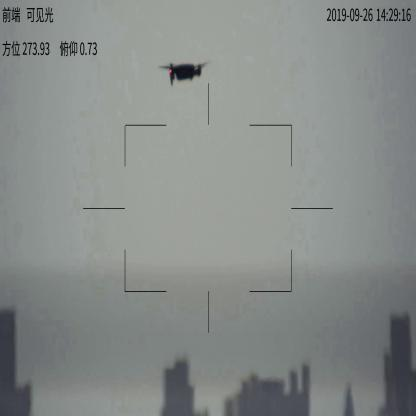uav: (158, 59, 210, 88)
